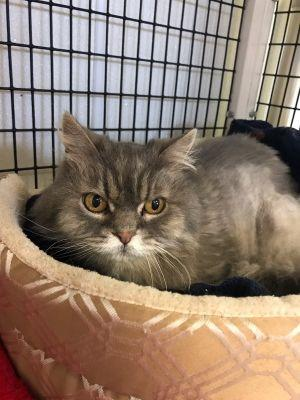persian: (43, 104, 216, 289)
